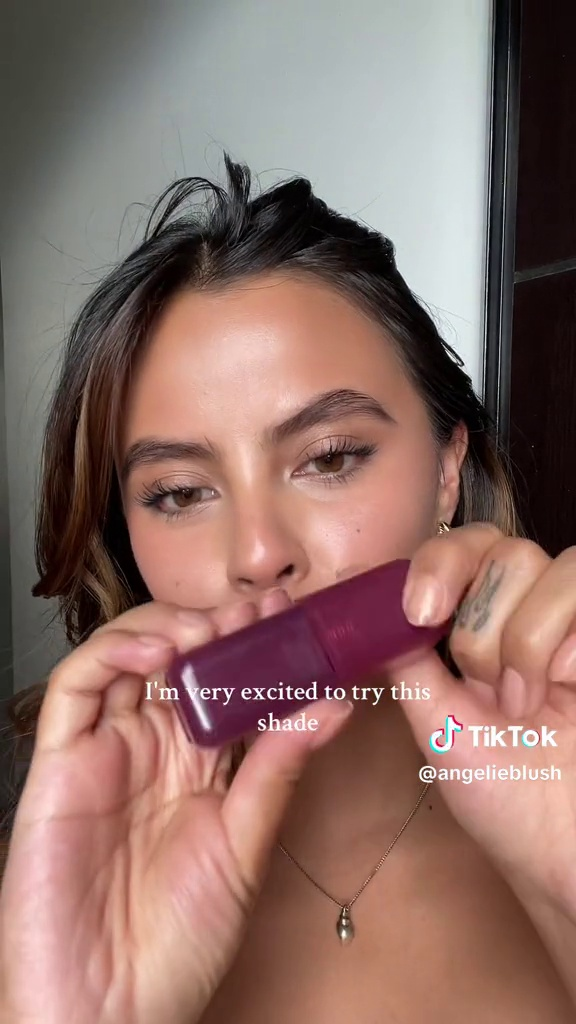train' :'yolo_data/train/images',: (156, 550, 444, 765)
